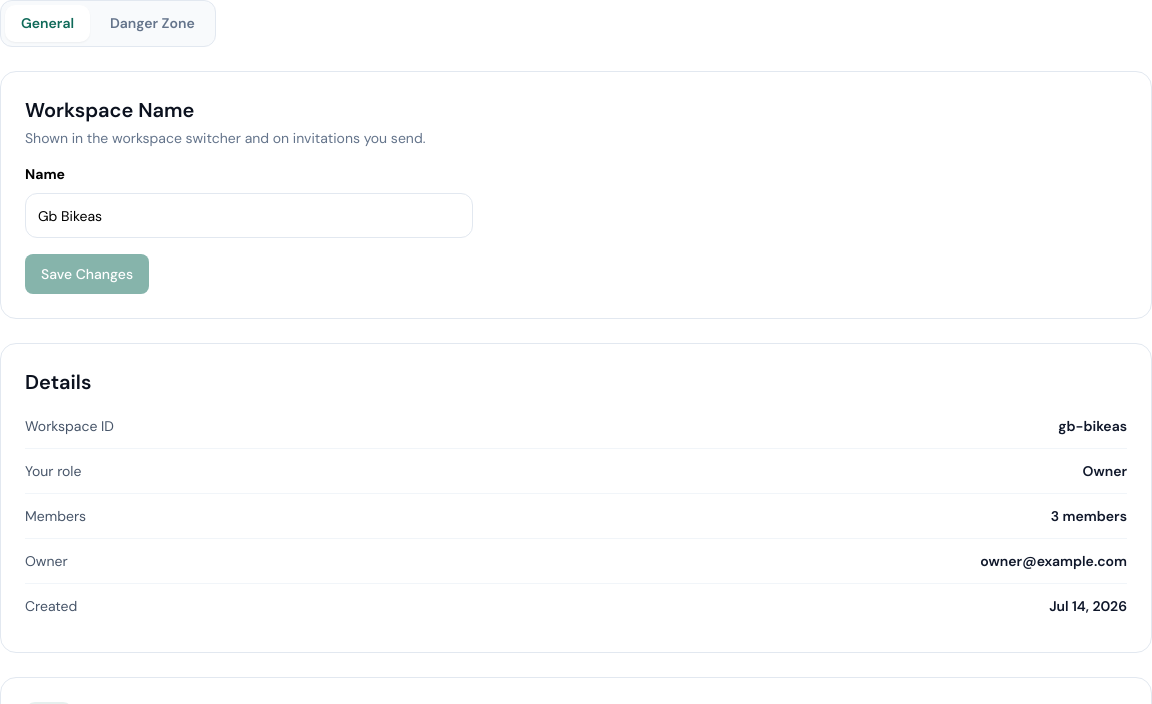
Test: danger zone › explains why the only workspace cannot be deleted
The width and height of the screenshot is (1152, 704).
Step 1. Click the tab "Danger Zone" → (152, 24), box [94,5,211,42]
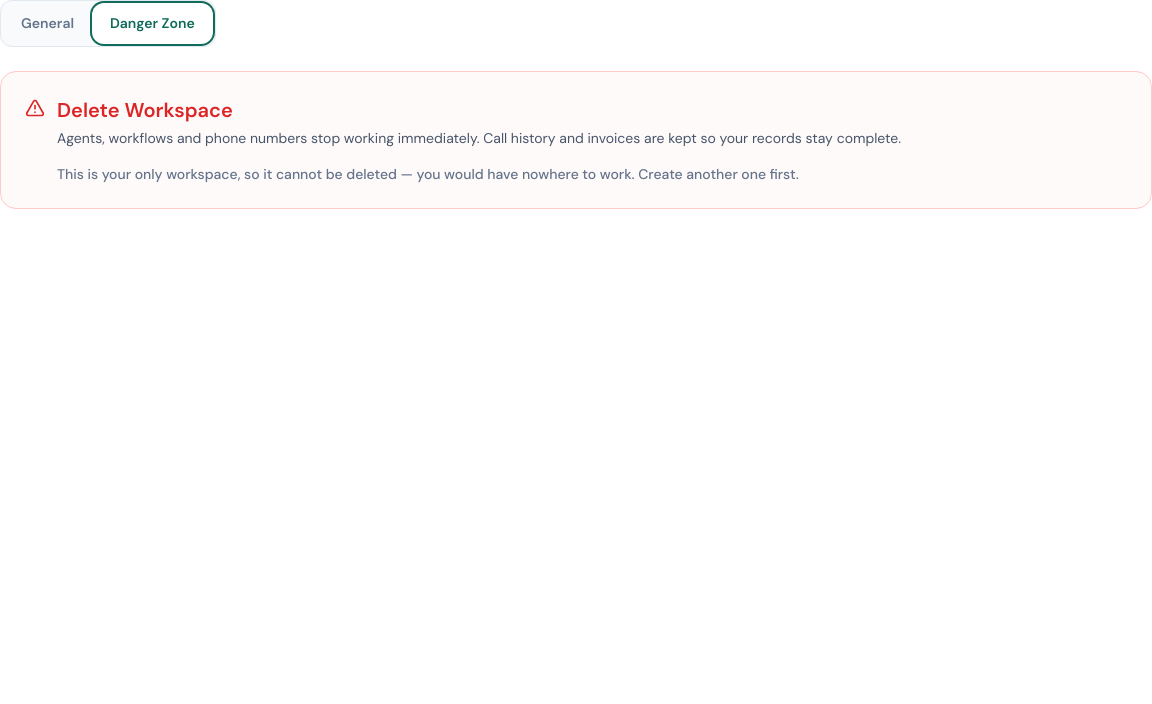
Check: the text "only workspace" is shown, box [57,165,799,183]
